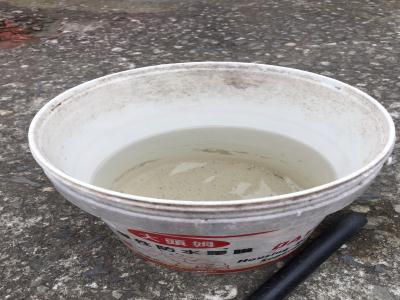bucket: (23, 58, 397, 275)
